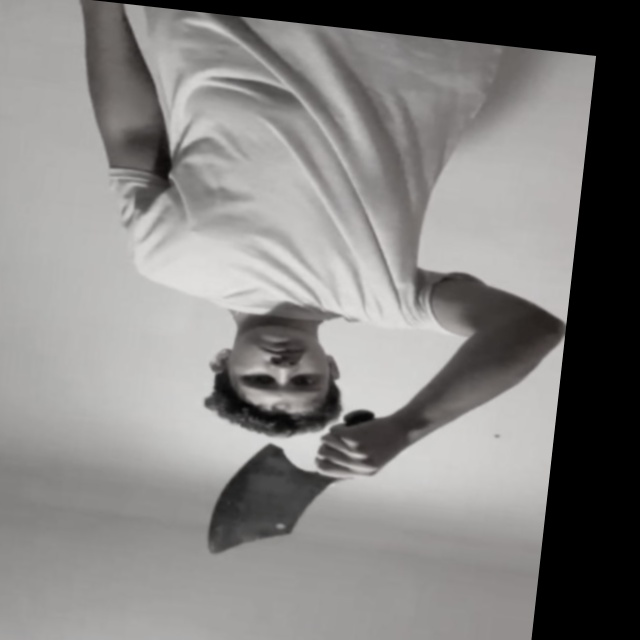Sharp-Object: (203, 437, 329, 566)
